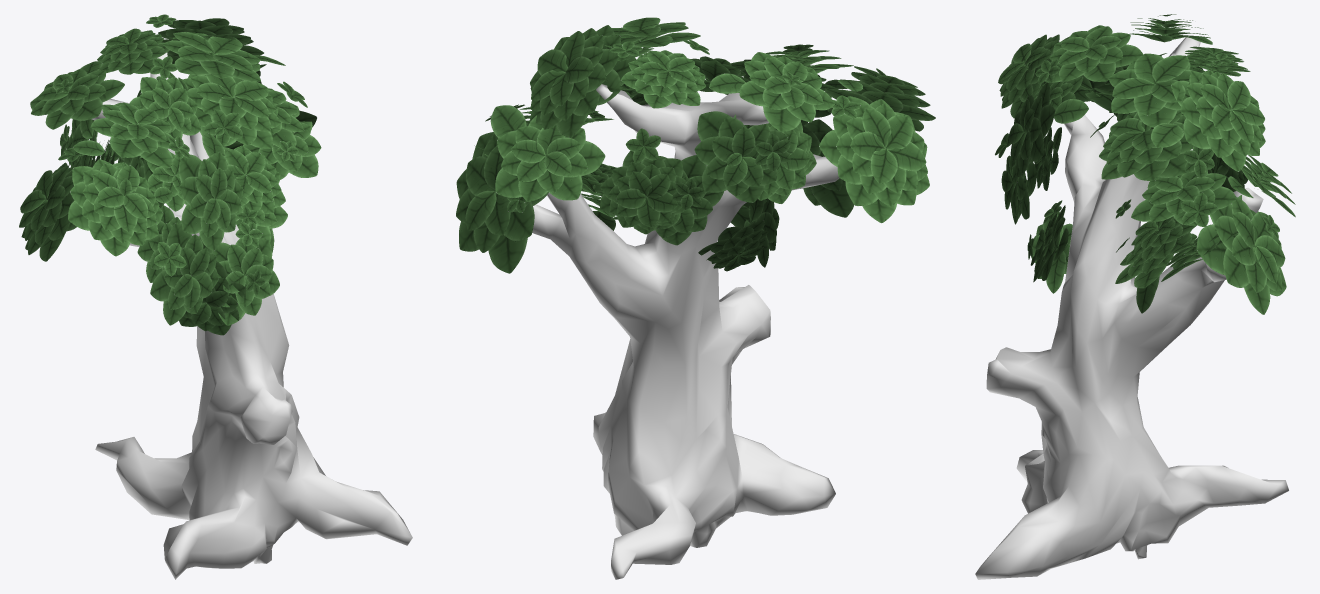
File: tree 1.fbx
3 views of the same model, side by side, from view 1: azimuth 30°, elevation 25°; view 2: azimuth 150°, elevation 25°; view 3: azimuth 270°, elevation 25° (orthographic). The views are drawn at different scales.
Visible parts, largest first — view 1: tree leafs, Tree 1 lp; view 2: tree leafs, Tree 1 lp; view 3: Tree 1 lp, tree leafs.
Part boxes in pixels (box(x1,y1,x2,y2)): tree leafs: box(19, 14, 321, 335); Tree 1 lp: box(91, 38, 412, 579); tree leafs: box(456, 17, 935, 273); Tree 1 lp: box(532, 84, 839, 579); Tree 1 lp: box(975, 36, 1288, 579); tree leafs: box(995, 14, 1295, 314).
Bounding box in the file's own units: 477 × 614 × 372.
